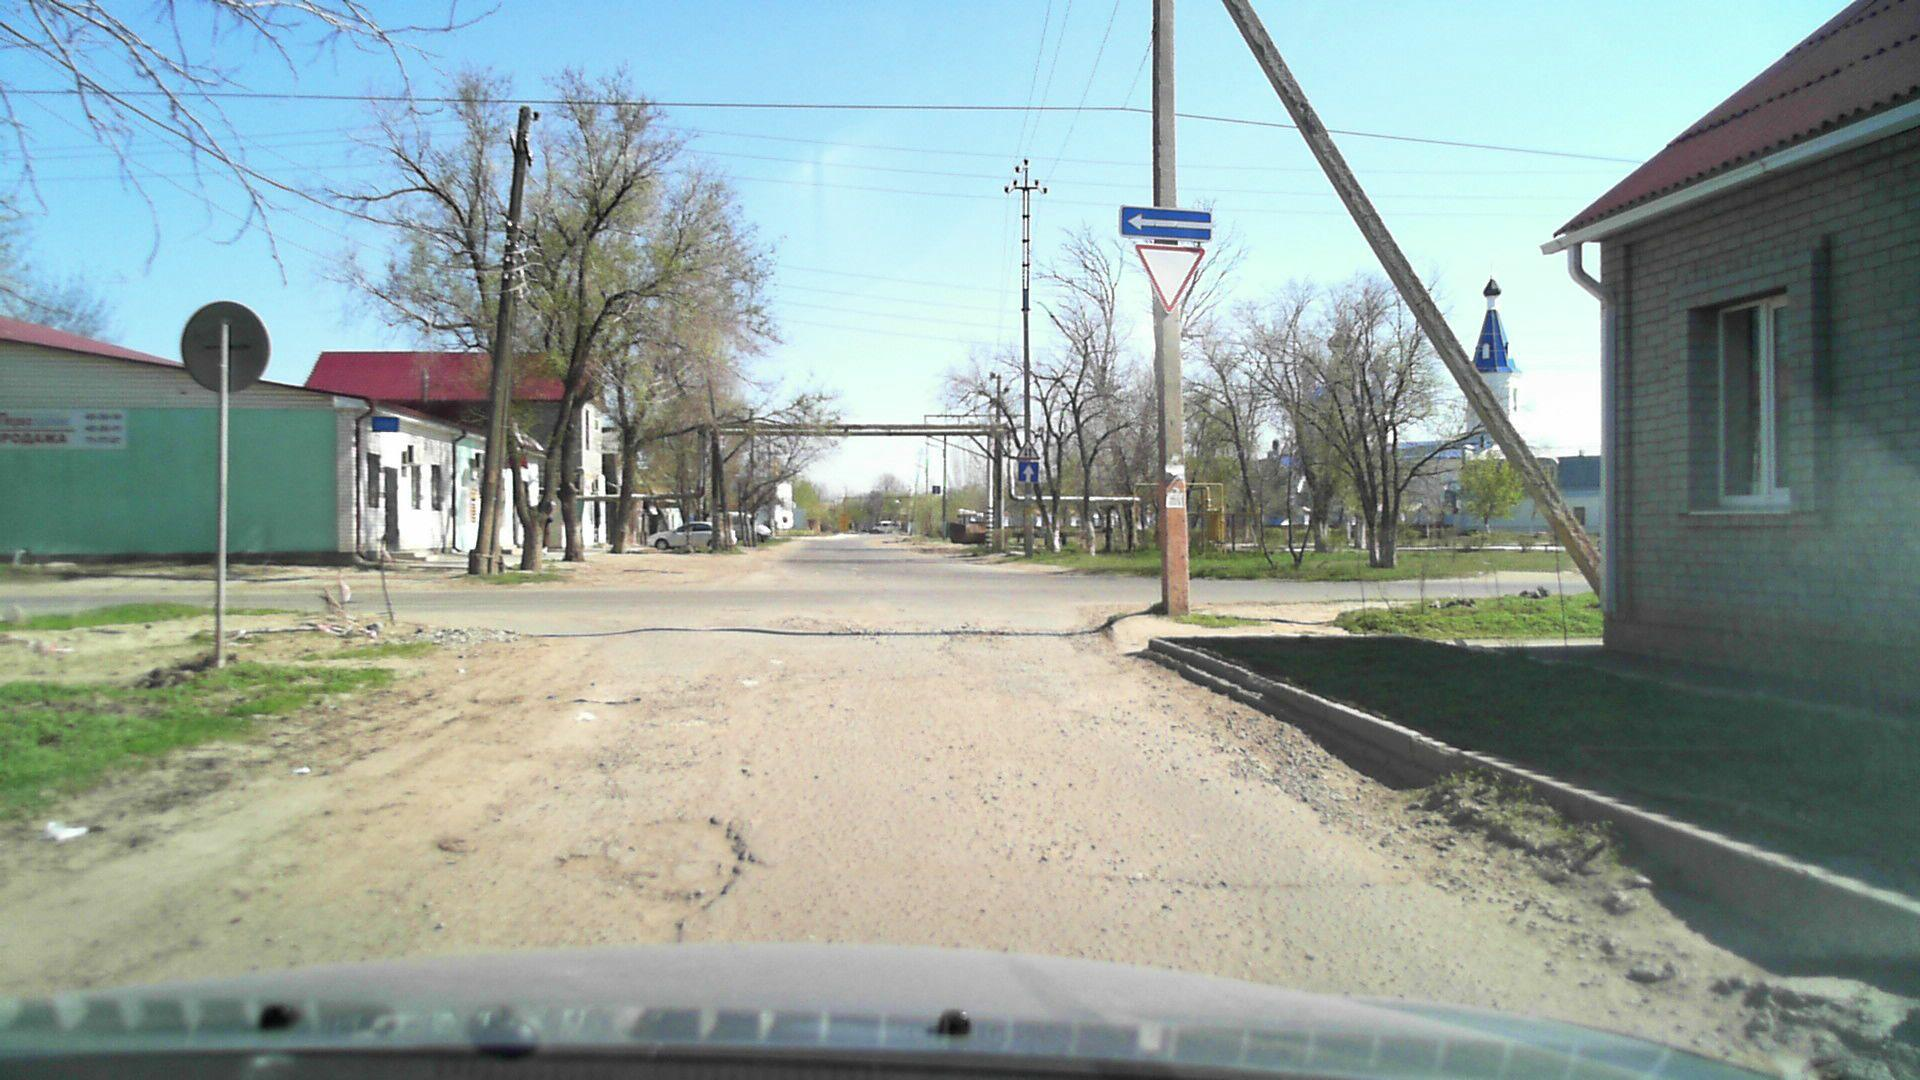1_21: (1015, 440, 1040, 460)
2_4: (1133, 241, 1207, 313)
5_5: (1015, 463, 1040, 484)
5_6: (934, 485, 940, 493)
5_7_2: (1117, 204, 1217, 243)
